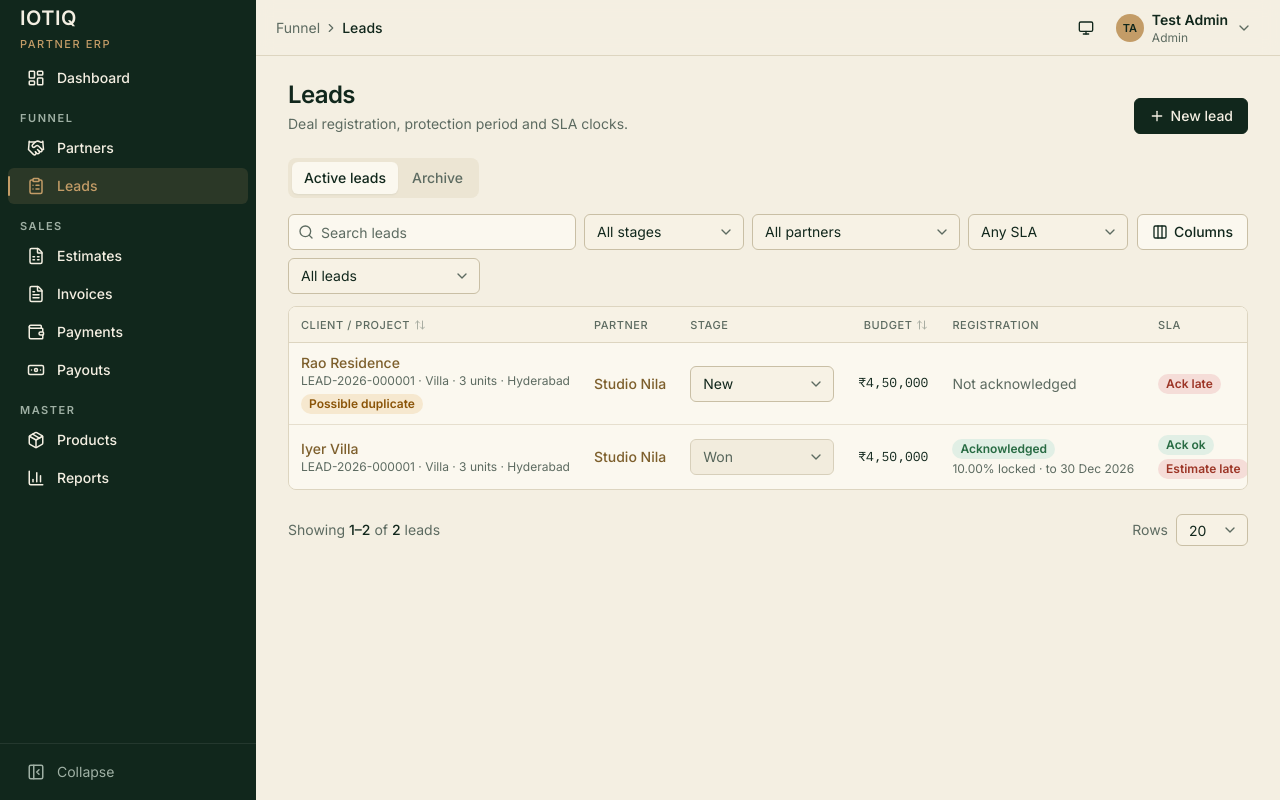
Scenario: lead list › changes an open stage inline with the version
Select "Presales" in the dropdown named "Stage for Rao Residence": {"x": 762, "y": 384} [690,366,834,402]
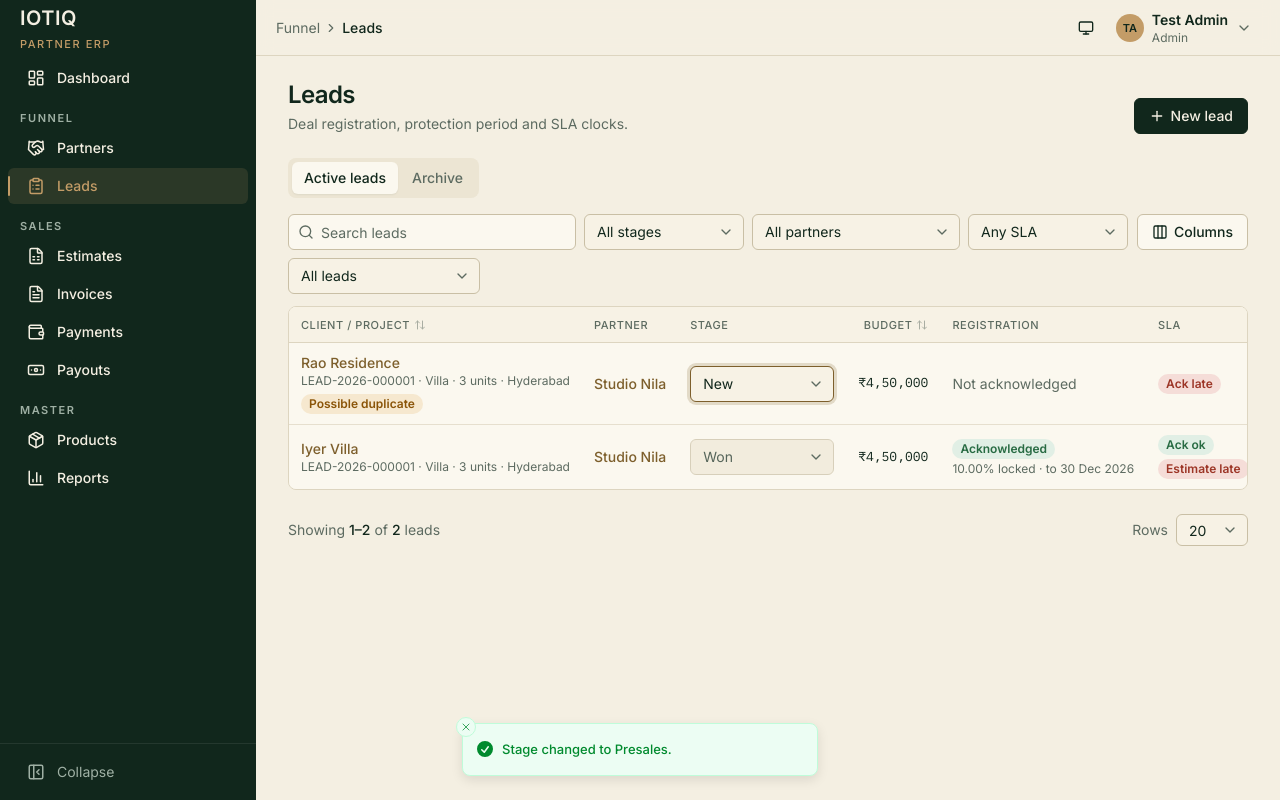
Check: the text "Stage changed to Presales." is shown, box [502,740,672,759]
